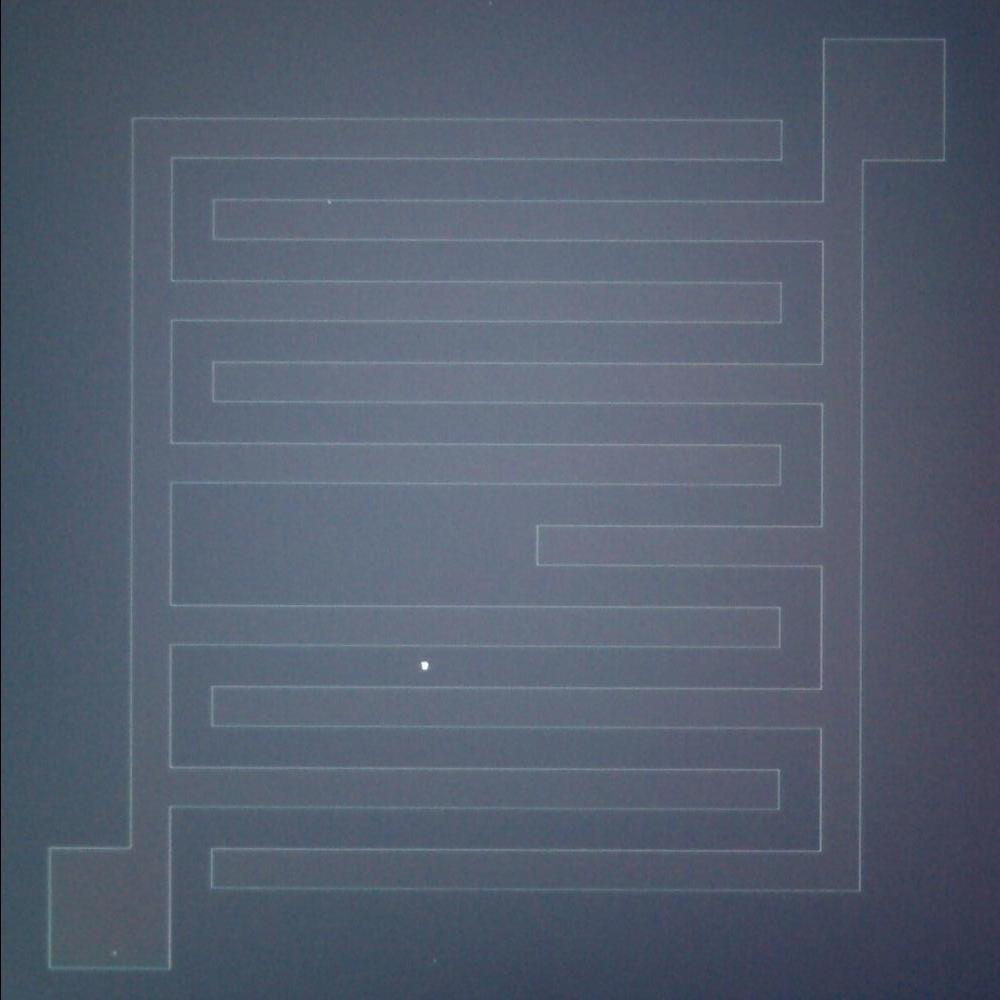cut circuit: (188, 508, 858, 586)
spot: (414, 656, 436, 678)
